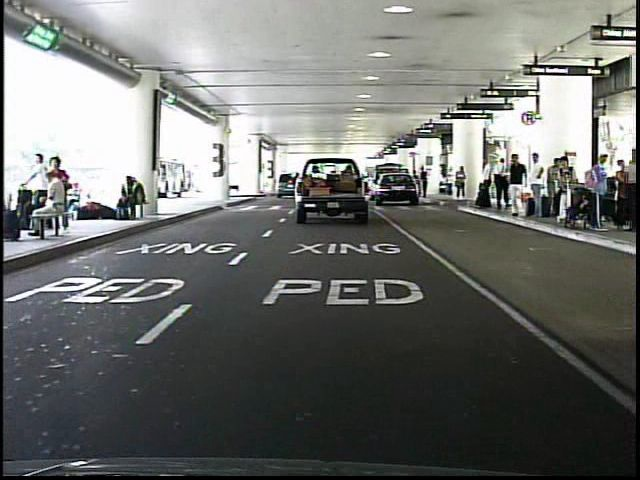person: (527, 150, 550, 222), (505, 152, 528, 222), (475, 153, 497, 214), (453, 163, 470, 203), (419, 164, 431, 201), (413, 167, 422, 200)
